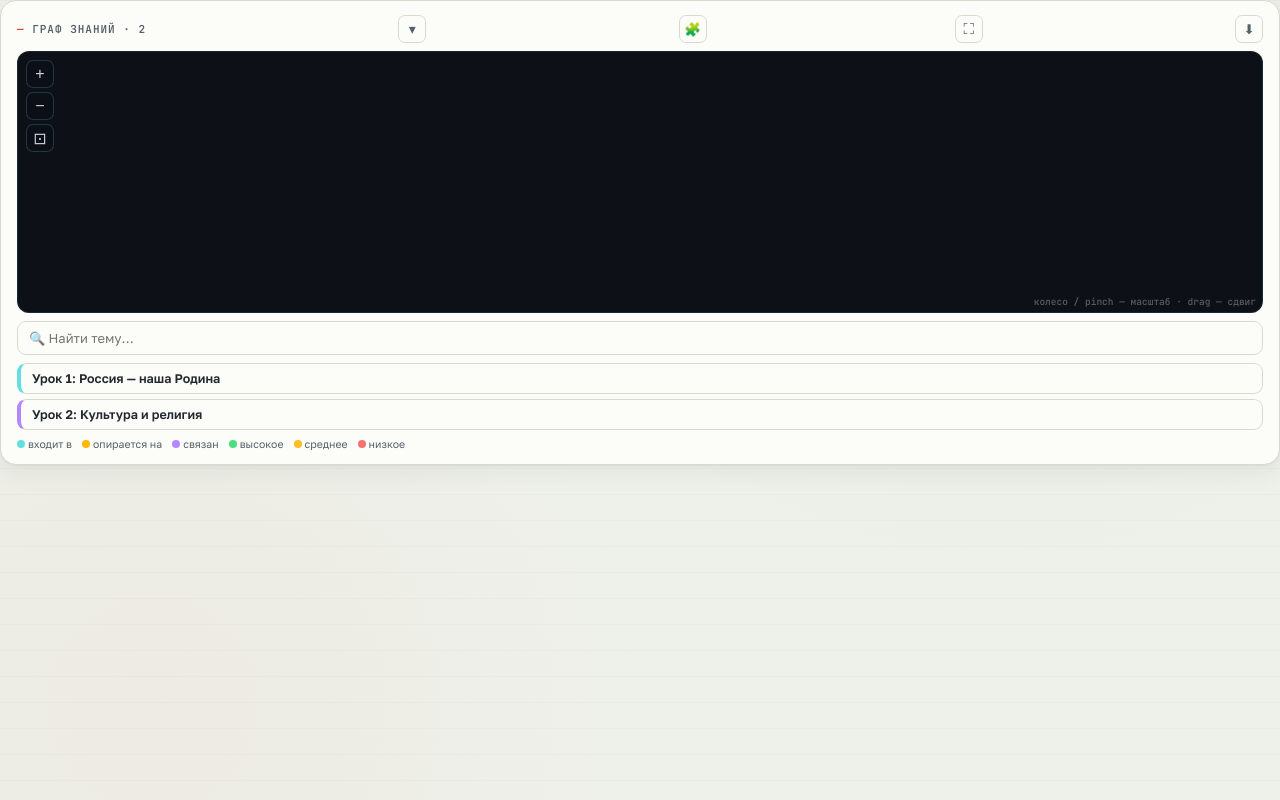
it: KnowledgeGraphPanel › открывает граф в плавающем окне (портал) и закрывает по фону
The image size is (1280, 800).
// открыть в окне (кнопка ⛶)
Click the button "⛶" at (969, 29), box [955,15,983,43]
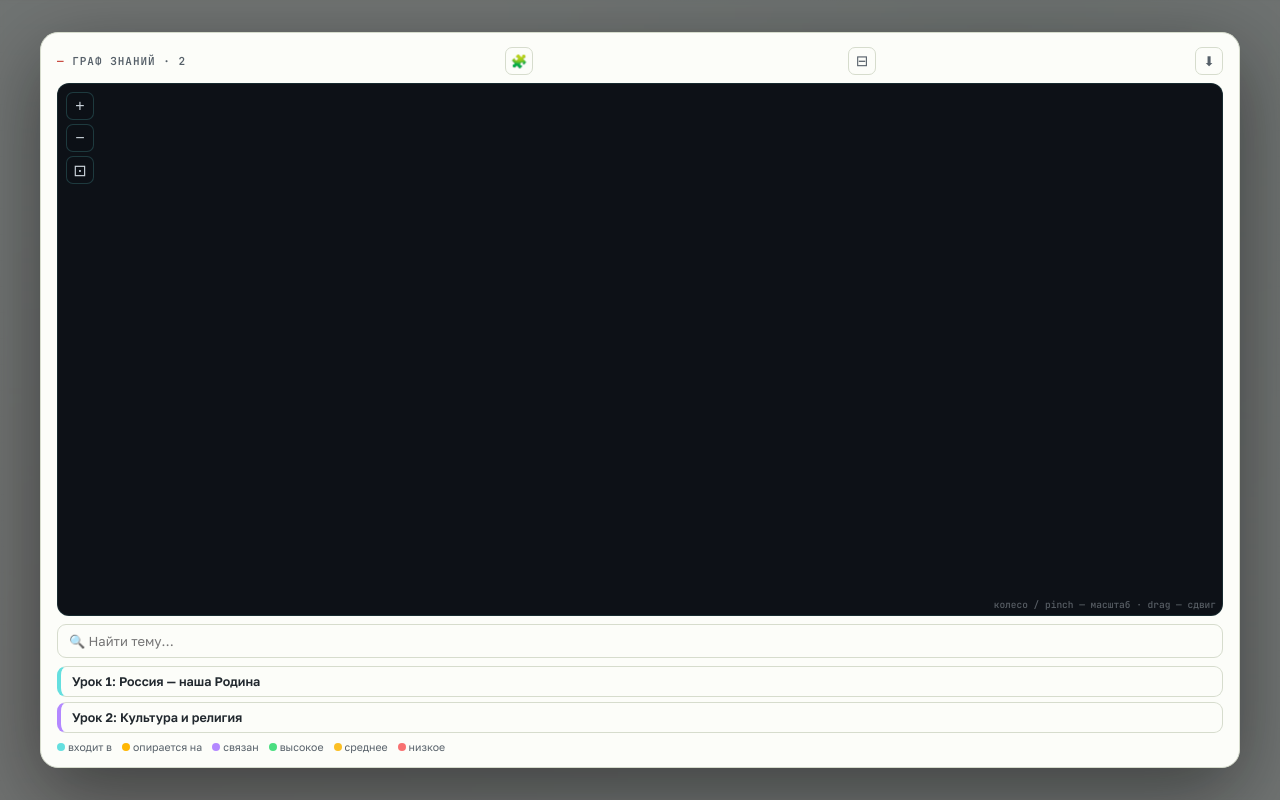
Now the element with class "graph-float-backdrop" is shown
Now the element with class "graph-panel--float" is shown
// закрыть по клику на фон
Click the element with class "graph-float-backdrop" at (640, 400), box [0,0,1279,799]
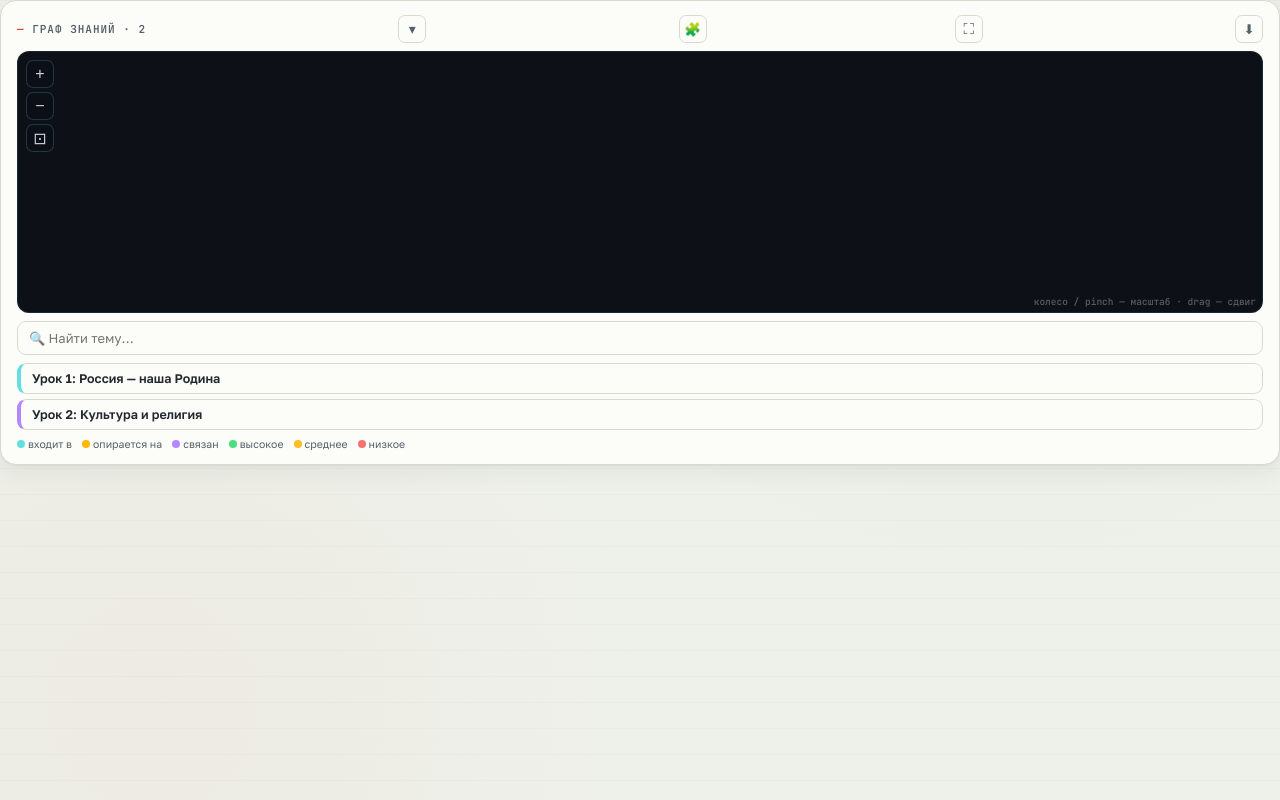
Now the element with class "graph-float-backdrop" is gone
